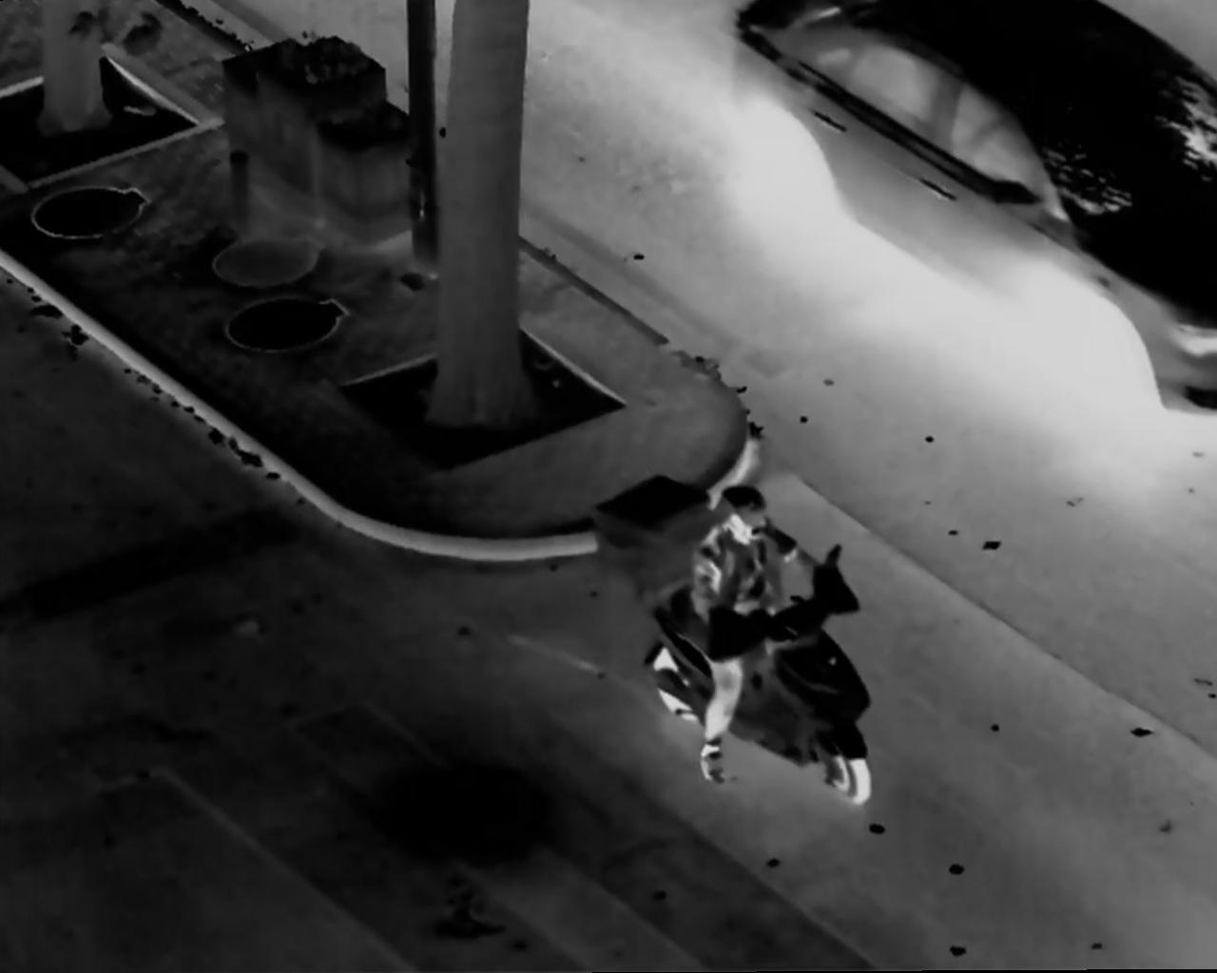person: (700, 485, 808, 792)
